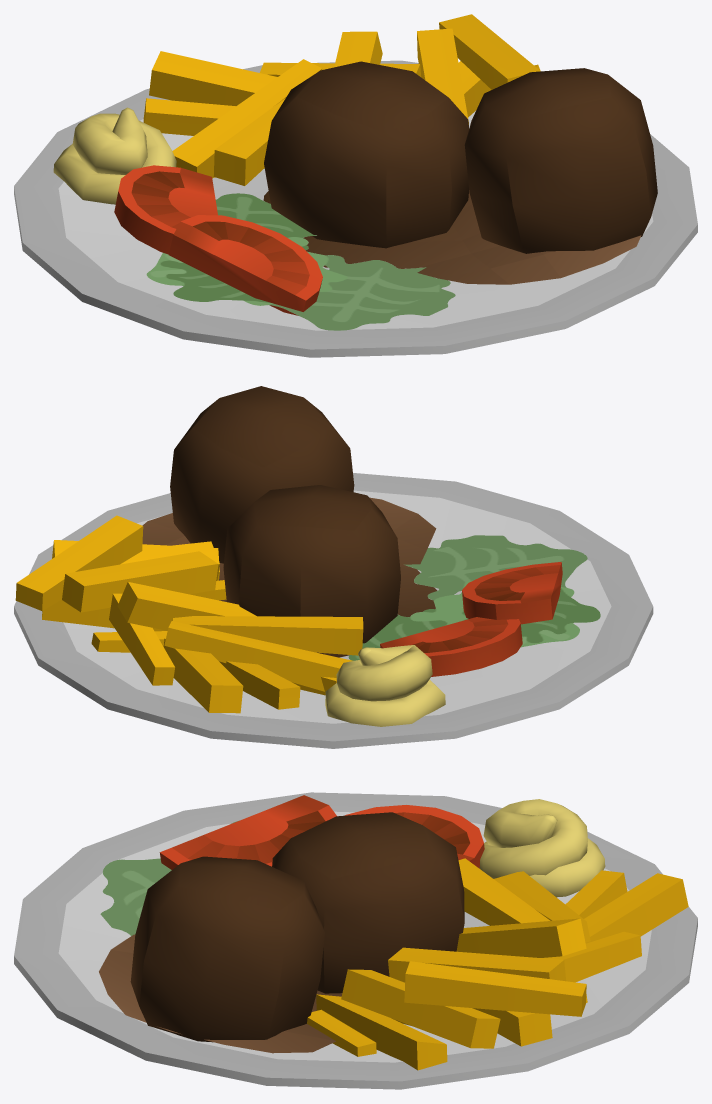
Rendered from 3D_dishe_Items_Boulet-sauce-lapin.fbx.
The picture shows the model from 3 angles, top to bottom: view 1: azimuth 30°, elevation 25°; view 2: azimuth 150°, elevation 25°; view 3: azimuth 270°, elevation 25°; orthographic projection. The views are drawn at different scales.
Parts seen in each view (by area): view 1: 3D_dishe_Items_Boulet-sauce-lapin; view 2: 3D_dishe_Items_Boulet-sauce-lapin; view 3: 3D_dishe_Items_Boulet-sauce-lapin.
Part boxes in pixels (x1=…): 3D_dishe_Items_Boulet-sauce-lapin: x1=14, y1=14, x2=697, y2=357; 3D_dishe_Items_Boulet-sauce-lapin: x1=14, y1=386, x2=653, y2=748; 3D_dishe_Items_Boulet-sauce-lapin: x1=14, y1=792, x2=697, y2=1089.
Bounding box in the file's own units: 72.48 × 19.88 × 71.04.
